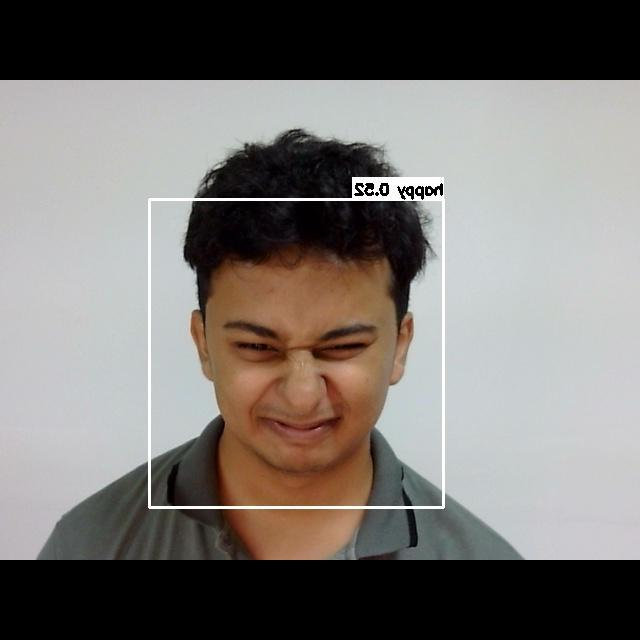Angry: (211, 304, 394, 456)
